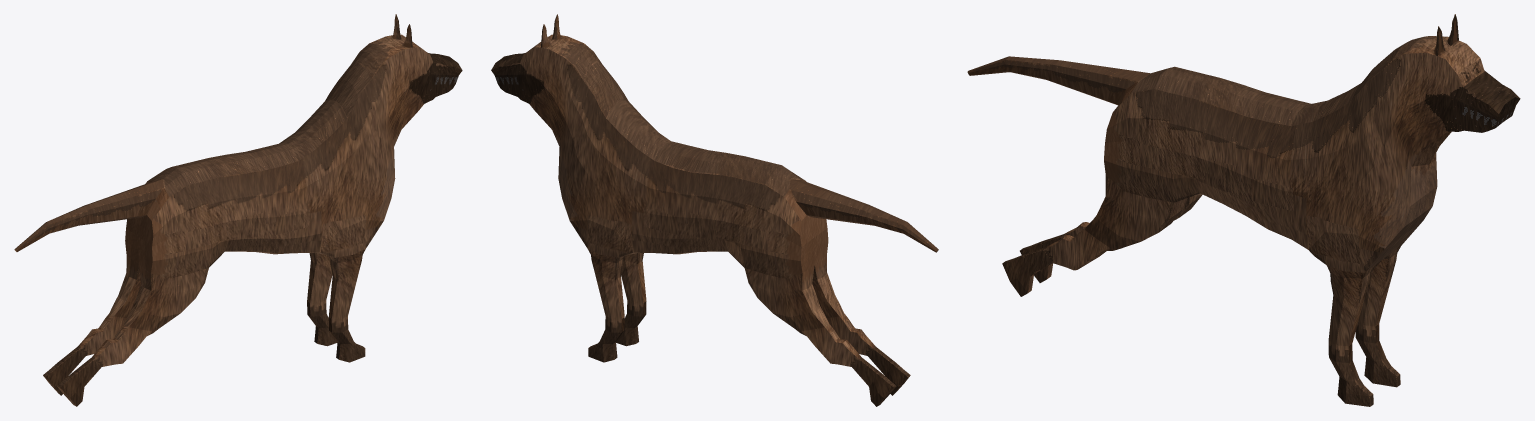
The model's file is cachorro.fbx.
3 renders of one model, left to right at view 1: azimuth 30°, elevation 25°; view 2: azimuth 150°, elevation 25°; view 3: azimuth 330°, elevation 25°, orthographic. The views are drawn at different scales.
Visible parts, largest first — view 1: Cube; view 2: Cube; view 3: Cube.
Part boxes in pixels (left/top/right/bottom): Cube: left=14, top=14, right=462, bottom=406; Cube: left=491, top=14, right=938, bottom=406; Cube: left=967, top=14, right=1520, bottom=406.
Size of the model in its own units: 2318 by 1596 by 325.
